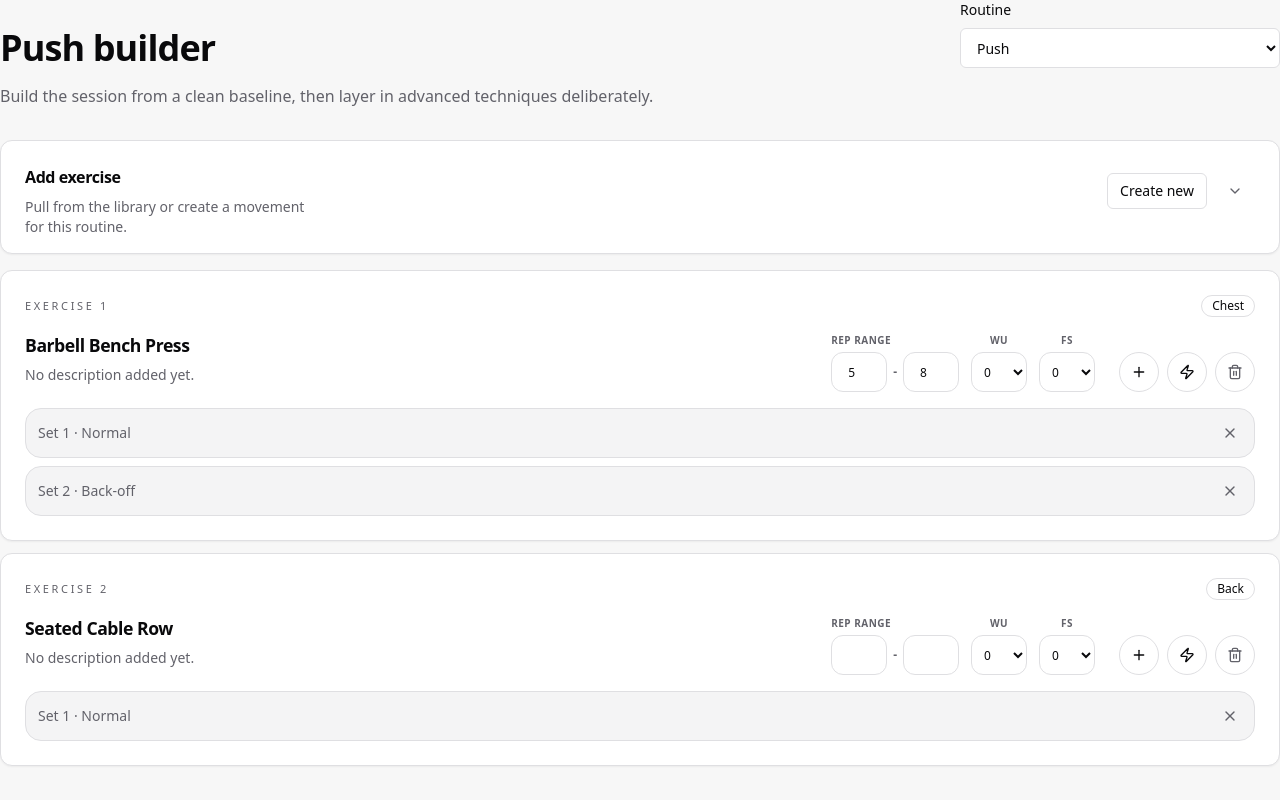
Test: RoutineDetailPage › removes superset from the technique menu
Click the 1st button named "add technique" at (1187, 372), box [1167,352,1207,392]
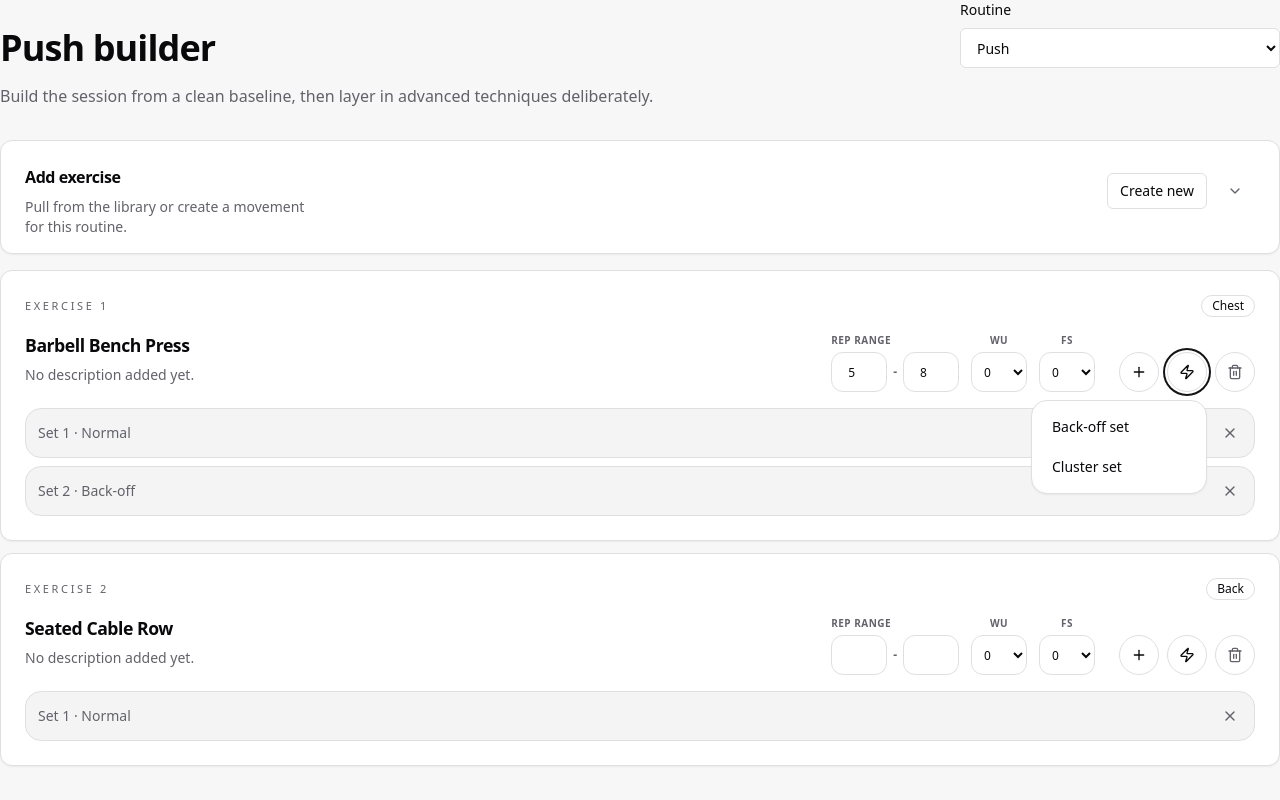
Now the menu is shown, box [1031,400,1207,494]
Now the menu item "Back-off set" is shown
Now the menu item "Cluster set" is shown, box [1040,449,1198,485]
Click the menu item "Back-off set" at (1119, 427), box [1040,409,1198,445]
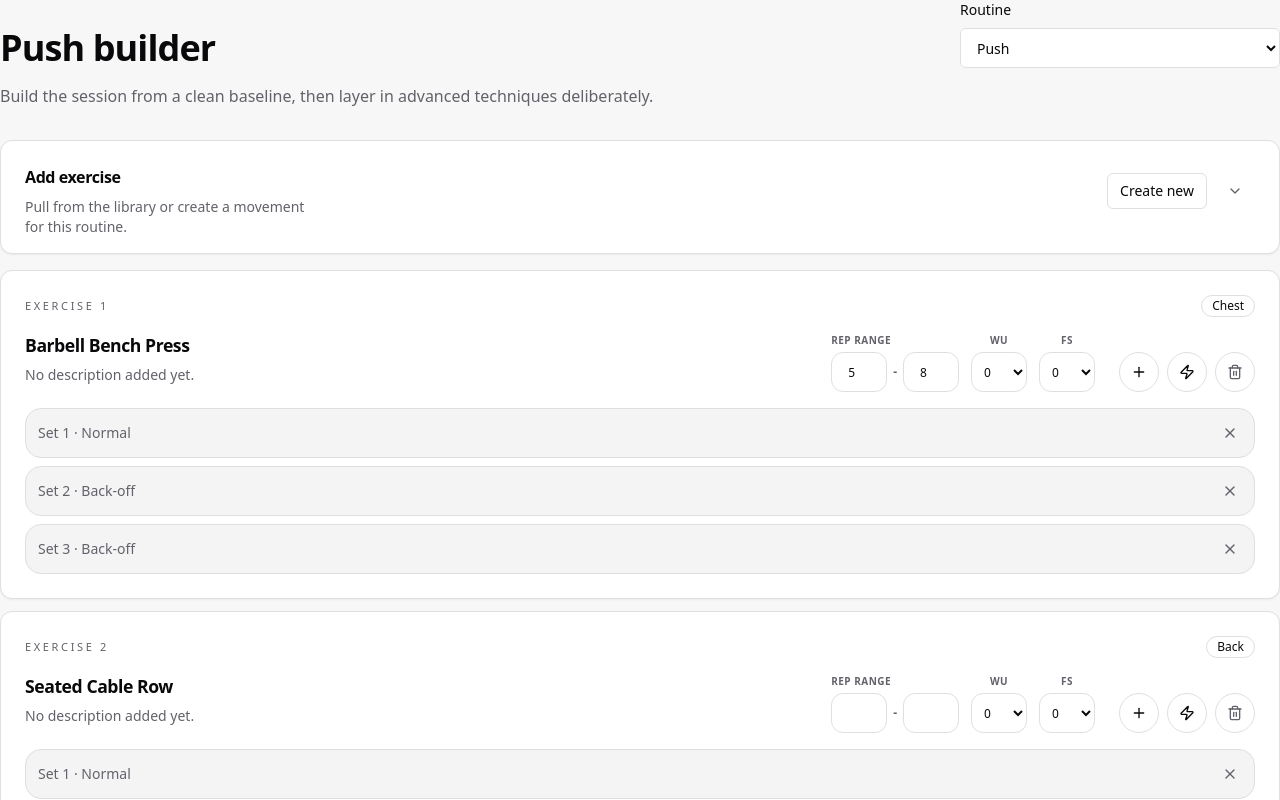
Now the text "Set 3 · Back-off" is shown, box [38,539,135,559]
